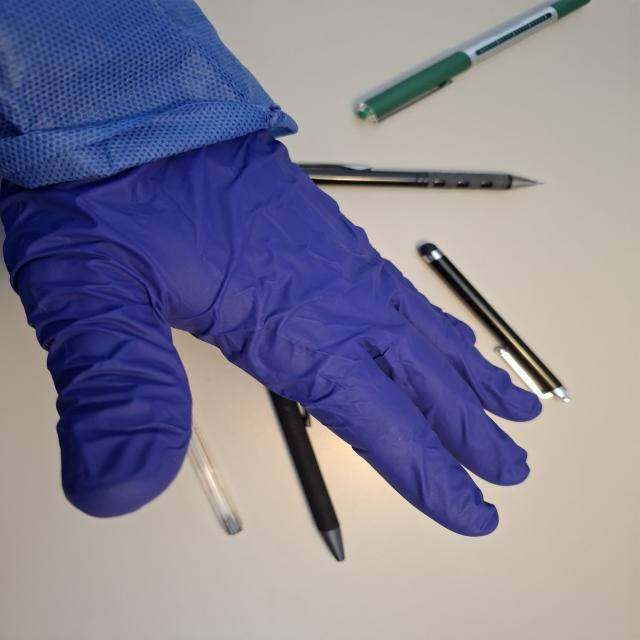glove_on: (0, 120, 547, 540)
